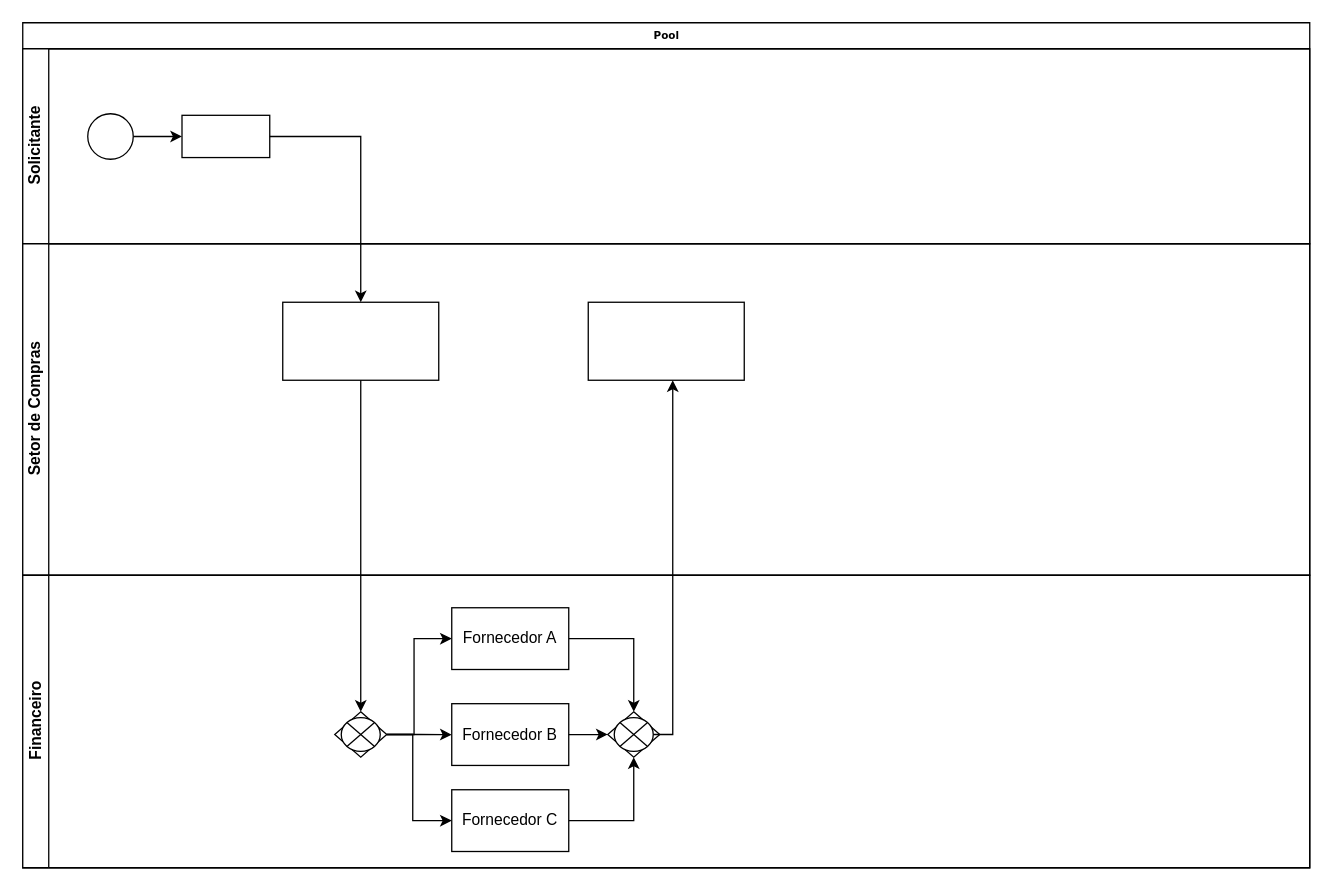
The diagram is 1333 pixels wide and 890 high, and some of its shapes have lost their labels. The centre of each missing label's shape, as x and y in pixels:
Contatar fornecedores: the point at 360,340
Emitir Ordem de Compra: the point at 665,340
Solicitação de compra: the point at 225,136
